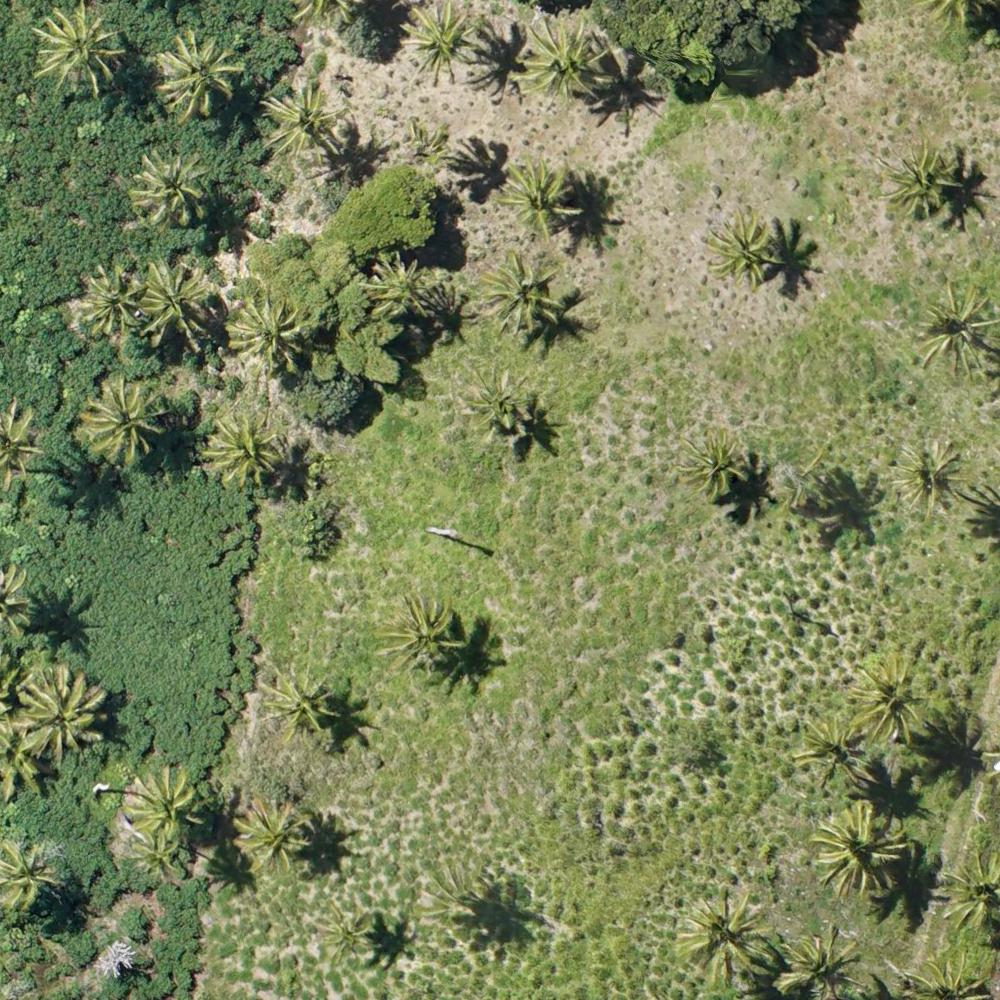Palm: (672, 889, 773, 986), (812, 800, 908, 896), (511, 13, 608, 102), (9, 669, 101, 755), (912, 284, 992, 380), (379, 590, 464, 678), (254, 661, 345, 743), (139, 261, 218, 355), (152, 29, 238, 115), (853, 650, 932, 743), (32, 6, 118, 90), (75, 381, 166, 459), (401, 4, 481, 88), (774, 926, 864, 1000), (796, 714, 876, 796), (233, 797, 316, 875), (478, 256, 562, 332), (887, 434, 963, 515), (880, 144, 957, 223), (701, 209, 779, 285), (503, 156, 582, 231), (201, 411, 276, 489), (125, 767, 206, 839), (228, 300, 301, 376), (130, 154, 208, 225), (263, 91, 339, 163), (462, 366, 534, 440), (680, 426, 748, 497), (313, 898, 379, 962), (365, 251, 424, 321), (82, 271, 149, 332), (126, 835, 185, 886)
